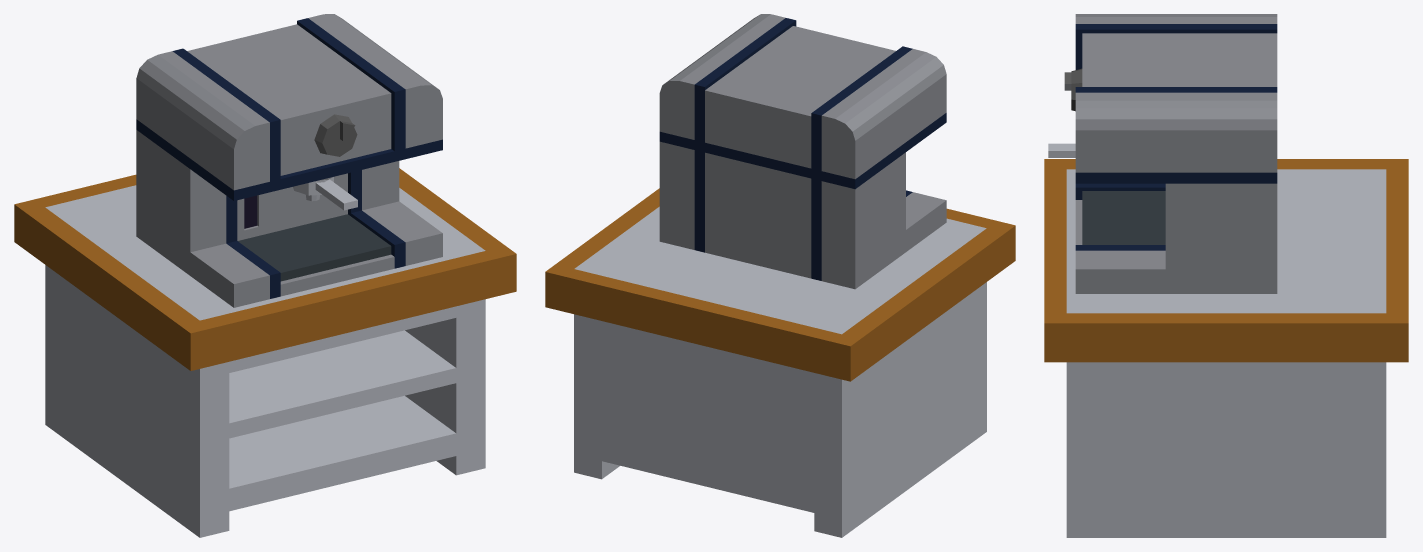
Rendered from coffee_machine.fbx.
The picture shows the model from 3 angles, left to right: view 1: azimuth 30°, elevation 25°; view 2: azimuth 150°, elevation 25°; view 3: azimuth 270°, elevation 25°; orthographic projection. The views are drawn at different scales.
Parts seen in each view (by area): view 1: base_top.001, Cube; view 2: base_top.001, Cube; view 3: base_top.001, Cube.
Part boxes in pixels (x1,y1,x2,y2): base_top.001: (14,168,516,537); Cube: (136,14,442,307); base_top.001: (545,188,1015,537); Cube: (659,14,946,289); base_top.001: (1044,159,1408,537); Cube: (1048,14,1277,293).
Size of the model in its own units: 158 by 183 by 148.
